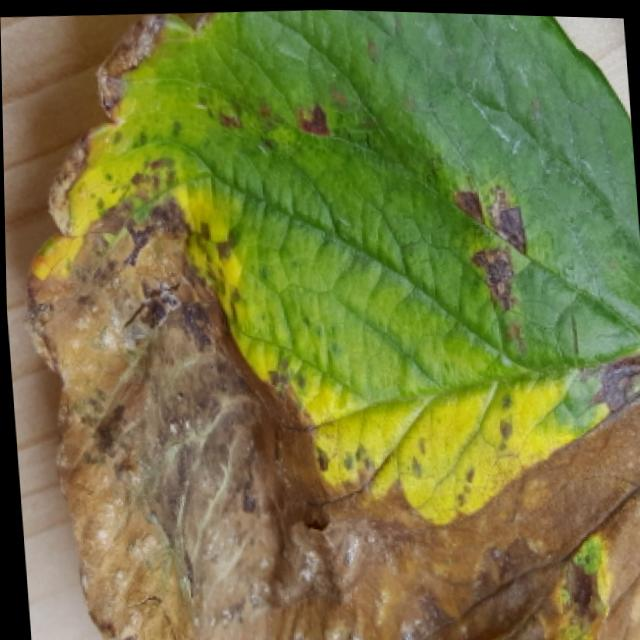Angular Leafspot: (20, 7, 640, 640)
